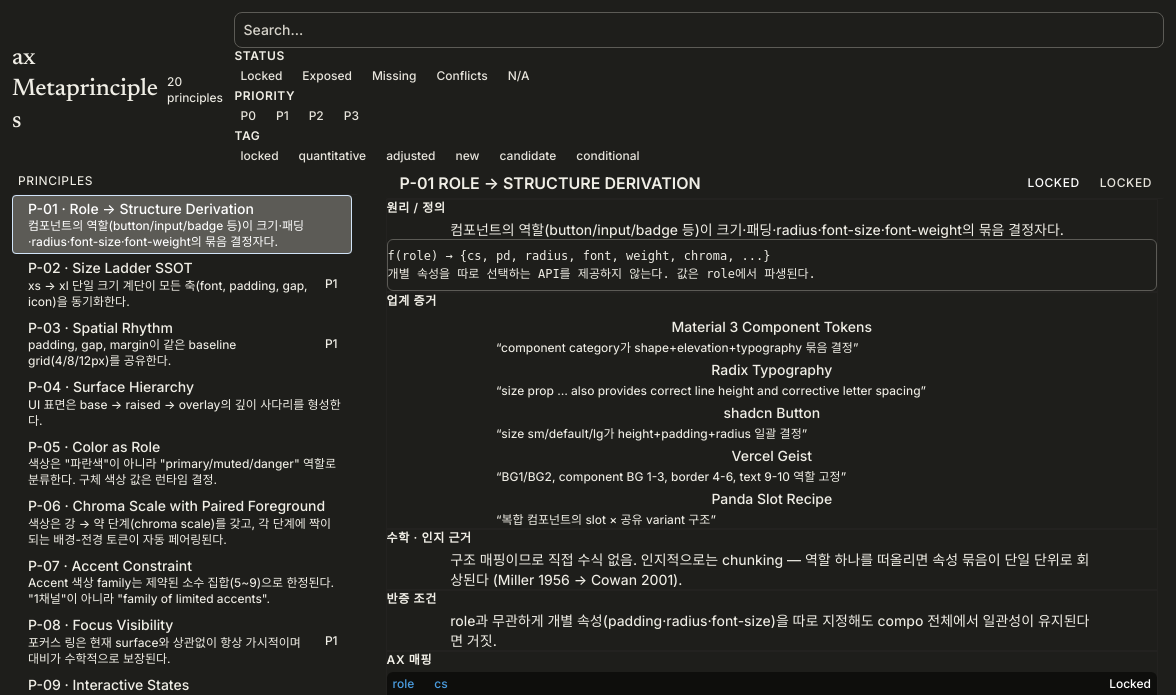
it: /ax-principles — screen integration › Search "OKLCH" narrows list to color-related principles
Click the field named "Search principles".
click(699, 30)  # box [234, 12, 1164, 48]
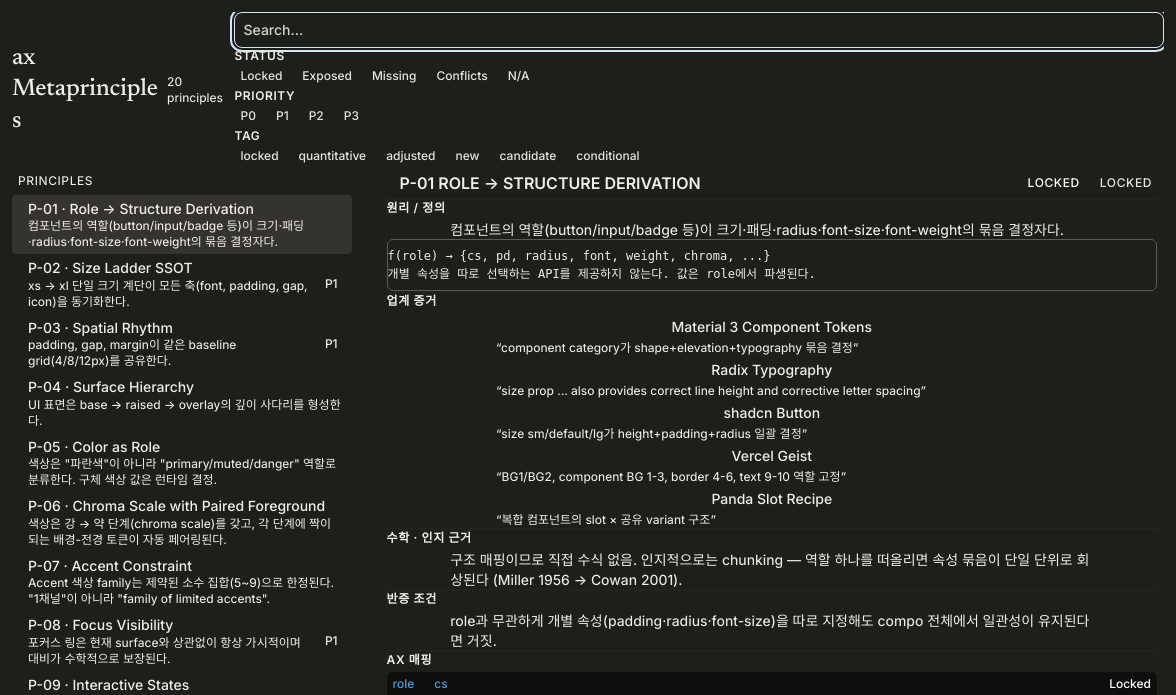
Type keys "OKLCH"
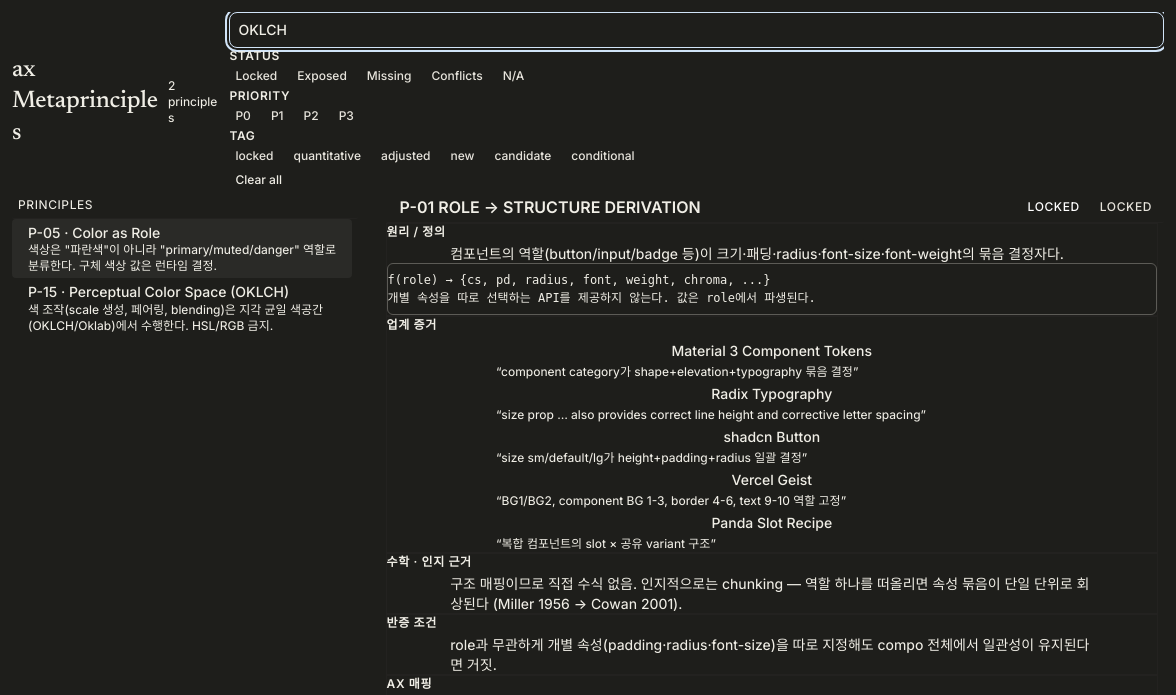
expect the number of options is 2: met, box [12, 219, 352, 278]; [12, 278, 352, 338]
